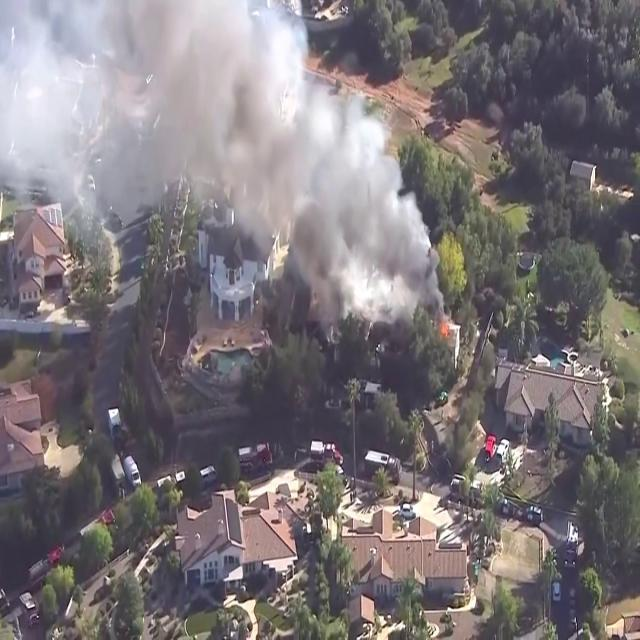Smoke: (1, 0, 450, 314)
